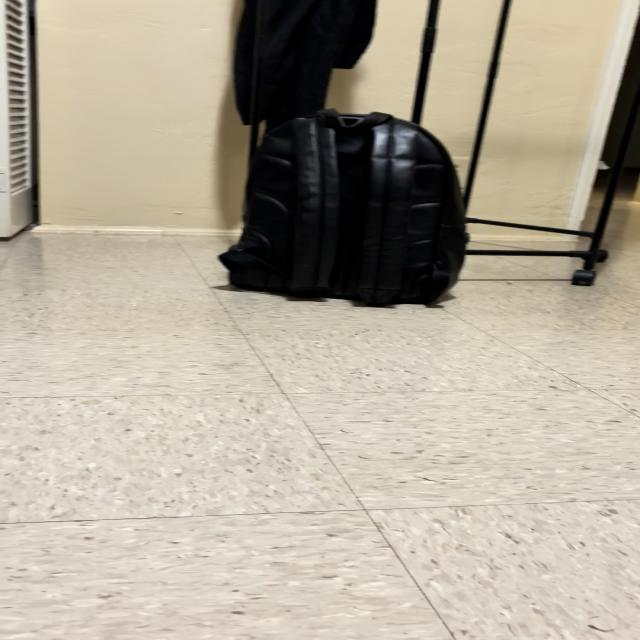backpack: (220, 110, 466, 306)
